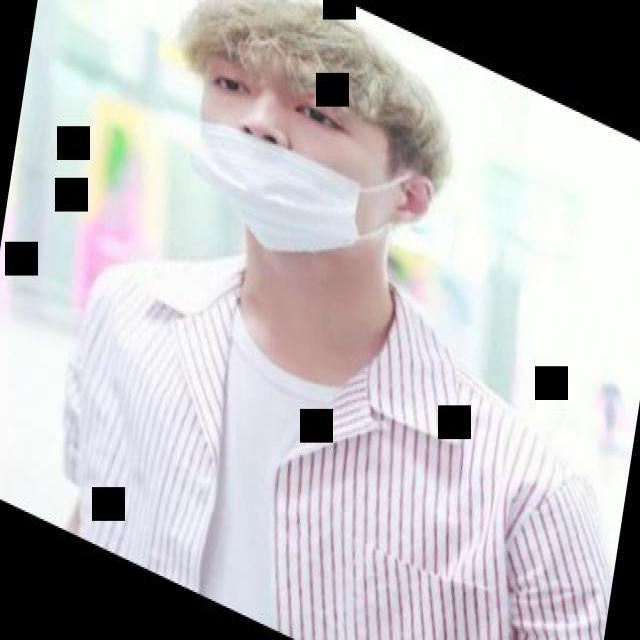hairnet: (195, 29, 371, 252)
